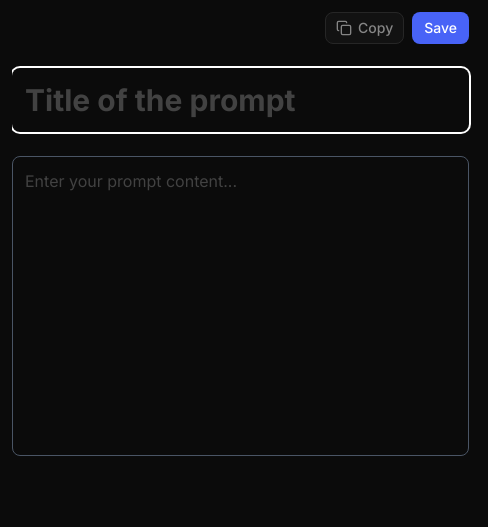
Test case: PromptForm › deve exibir as mensagens de erro quando o formulario estiver vazio
This screenshot has width=488, height=527.
Click the button "Save".
click(441, 28)  # box [412, 12, 469, 44]
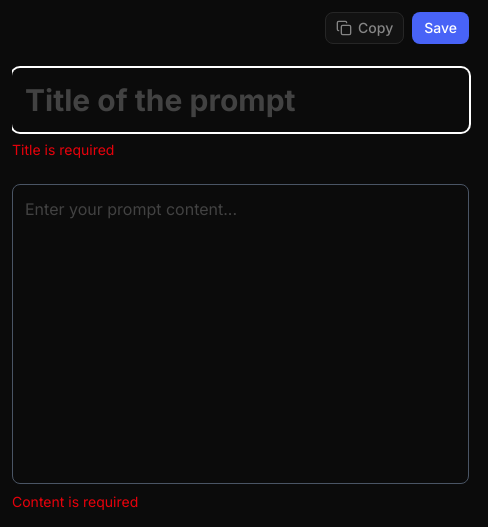
Check: the text "Title is required" is shown, box [12, 141, 114, 158]
Check: the text "Content is required" is shown, box [12, 493, 138, 510]
